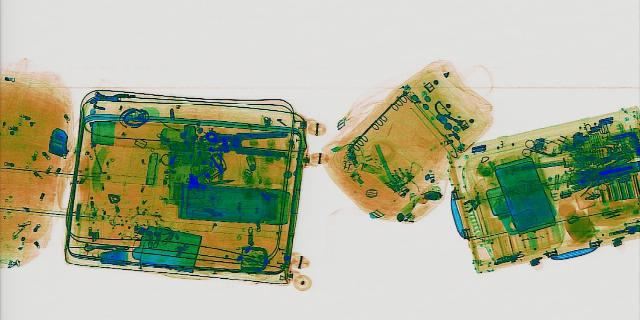Scissors: (510, 137, 558, 160)
